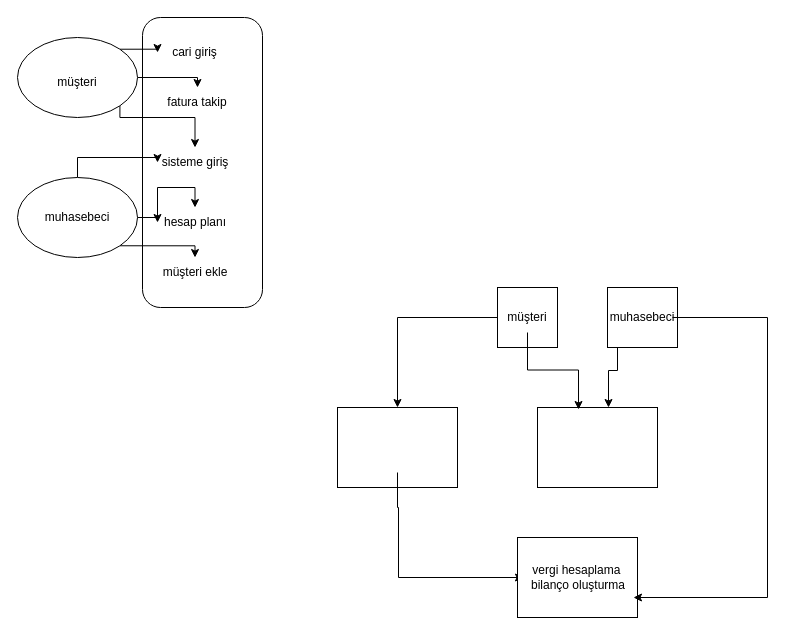
This 793x635 diagram has some shape labels left out. The centre of each missing label's shape, as x and y in pixels:
"id ad vergi no şifre" belongs at (x=597, y=447).
"para giriş para çıkış kar-zarar" belongs at (x=397, y=447).
